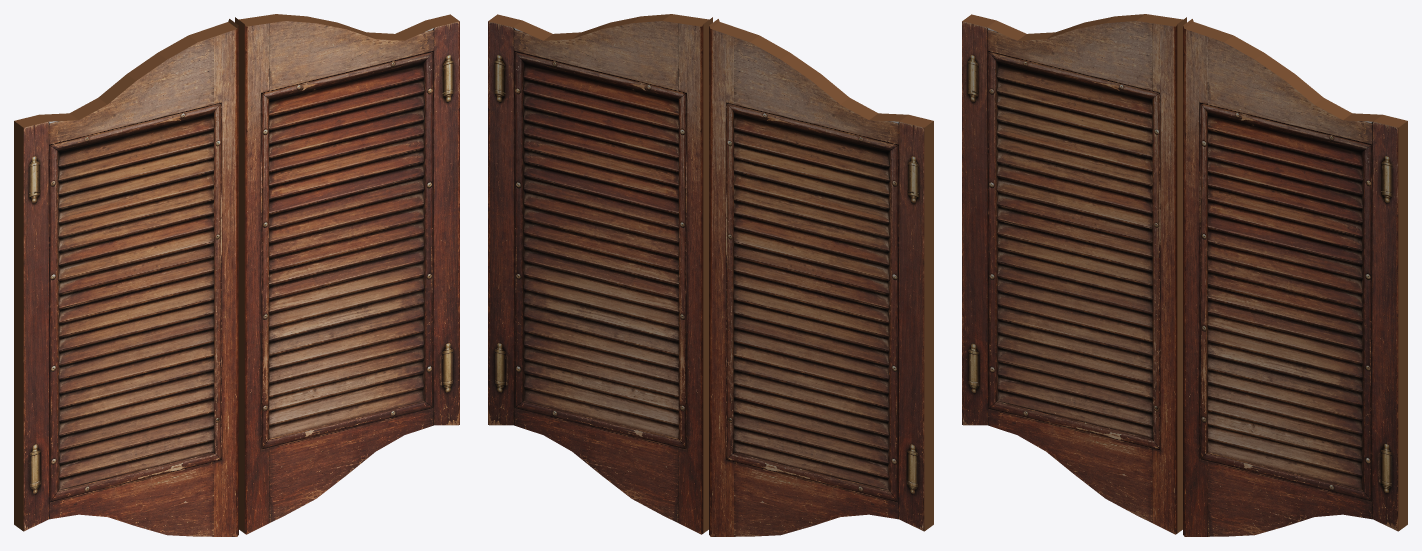
The model's file is pair.glb.
The picture shows the model from 3 angles, left to right: view 1: azimuth 30°, elevation 25°; view 2: azimuth 150°, elevation 25°; view 3: azimuth 330°, elevation 25°; orthographic projection.
Visible parts, largest first — view 1: Saloon Door Left, Saloon Door Right; view 2: Saloon Door Left, Saloon Door Right; view 3: Saloon Door Right, Saloon Door Left.
Part boxes in pixels (left/top/right/bottom): Saloon Door Left: left=14, top=19, right=238, bottom=536; Saloon Door Right: left=235, top=14, right=459, bottom=534; Saloon Door Left: left=709, top=19, right=933, bottom=536; Saloon Door Right: left=488, top=14, right=712, bottom=534; Saloon Door Right: left=1183, top=19, right=1407, bottom=536; Saloon Door Left: left=962, top=14, right=1186, bottom=534.
Bounding box in the file's own units: 1.06 × 1.19 × 0.04.
Materials: 2 (1 with a texture image).
